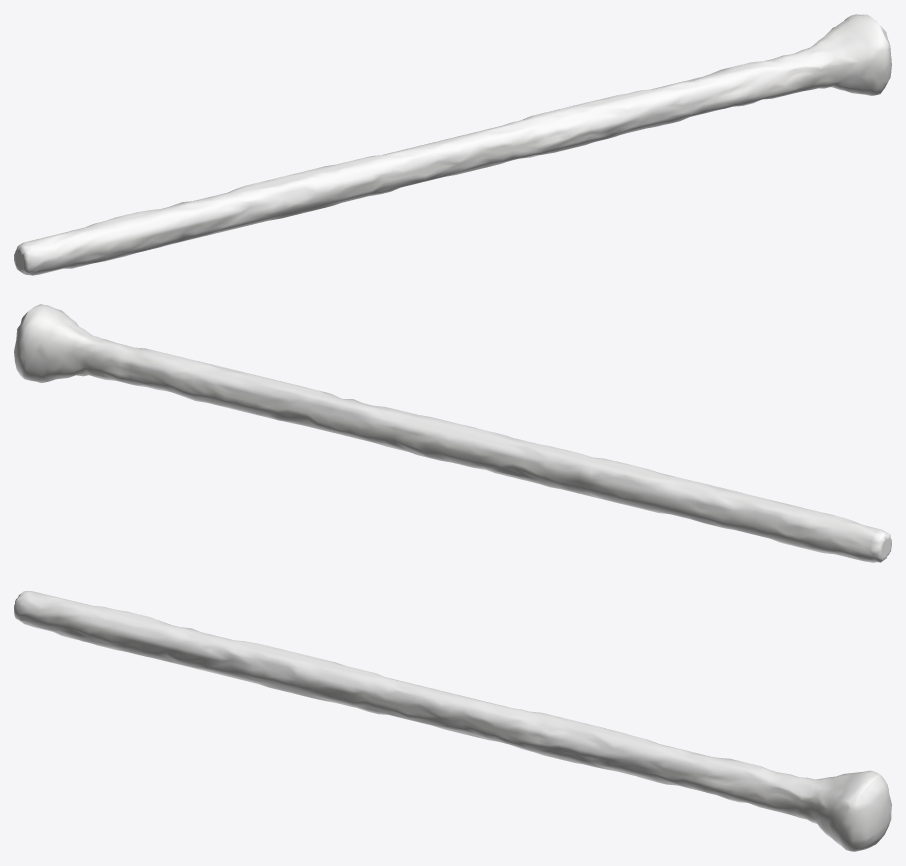
File: glass_stirrer_1777967194.glb
3 renders of one model, top to bottom at view 1: azimuth 30°, elevation 25°; view 2: azimuth 150°, elevation 25°; view 3: azimuth 330°, elevation 25°, orthographic.
Visible parts, largest first — view 1: tripo_node_75fe3c7a-9216-4d95-890c-384613d49edb; view 2: tripo_node_75fe3c7a-9216-4d95-890c-384613d49edb; view 3: tripo_node_75fe3c7a-9216-4d95-890c-384613d49edb.
Part boxes in pixels (bbox=[...]): tripo_node_75fe3c7a-9216-4d95-890c-384613d49edb: bbox=[14, 14, 891, 275]; tripo_node_75fe3c7a-9216-4d95-890c-384613d49edb: bbox=[14, 304, 891, 562]; tripo_node_75fe3c7a-9216-4d95-890c-384613d49edb: bbox=[14, 591, 891, 851].
Bounding box in the file's own units: 0.998 × 0.0762 × 0.0762.
1 material, 1 textured.
